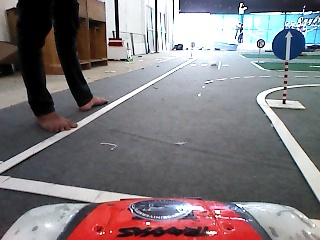straight: (272, 29, 305, 61)
